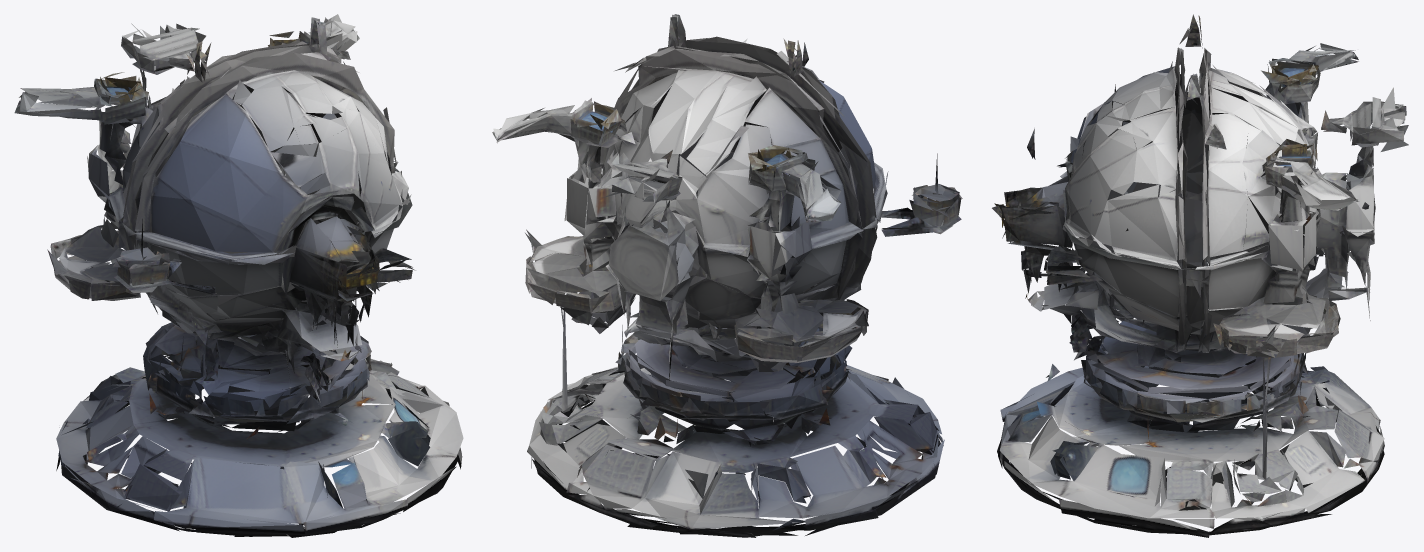
Rendered from radar_center_t3.fbx.
The picture shows the model from 3 angles, left to right: view 1: azimuth 30°, elevation 25°; view 2: azimuth 150°, elevation 25°; view 3: azimuth 270°, elevation 25°; orthographic projection. The views are drawn at different scales.
Visible parts, largest first — view 1: radar_center_t3; view 2: radar_center_t3; view 3: radar_center_t3.
Boxes of the visible parts, x1=… form: radar_center_t3: x1=14, y1=14, x2=463, y2=537; radar_center_t3: x1=492, y1=14, x2=962, y2=537; radar_center_t3: x1=992, y1=14, x2=1408, y2=537.
Size of the model in its own units: 4.26 by 4.8 by 4.37.
Materials: 1 (1 with a texture image).
